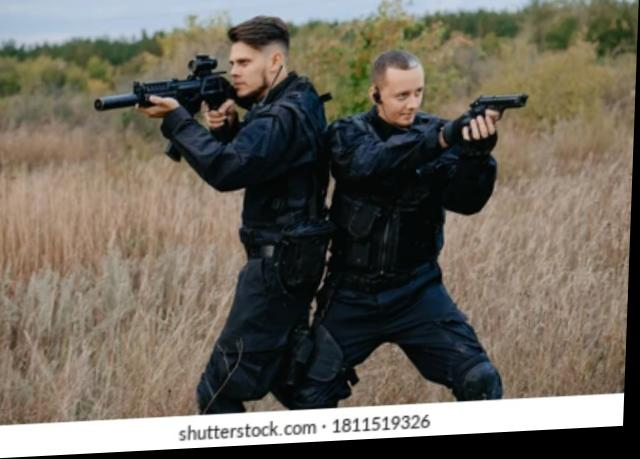other: (317, 50, 507, 405), (153, 25, 324, 412)
